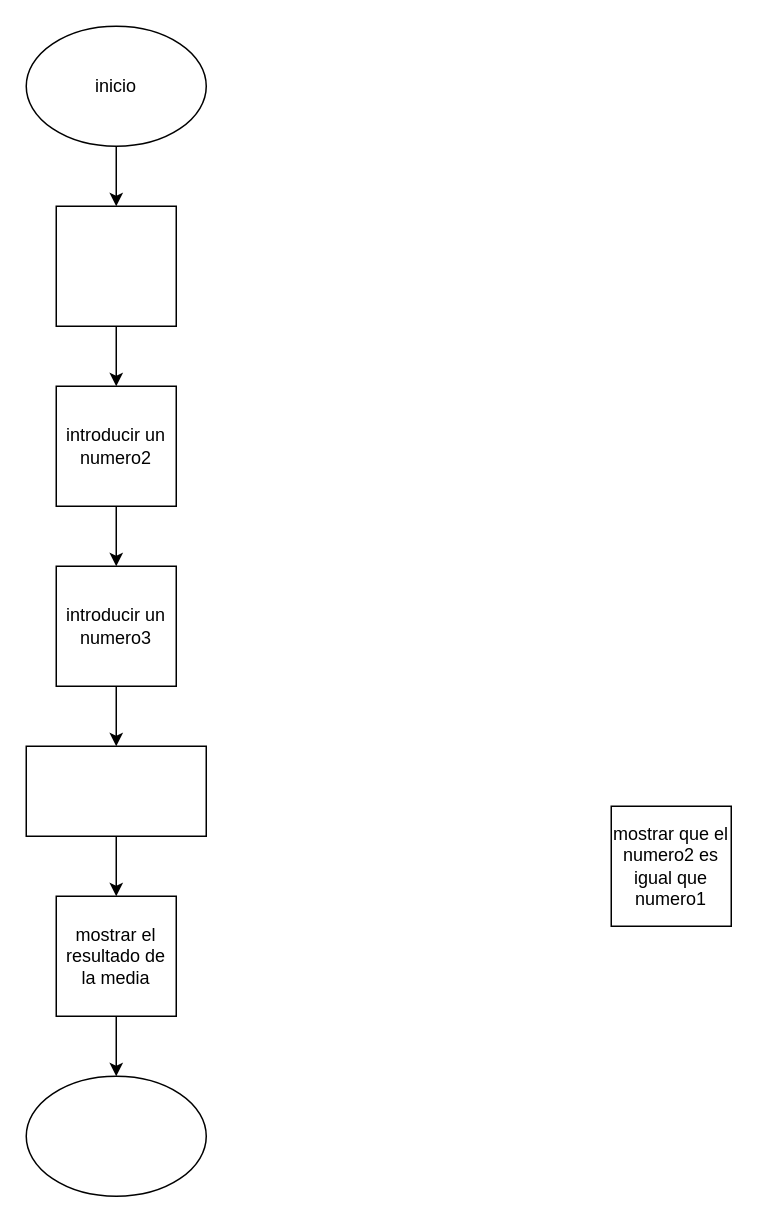
Some shapes in this 758 by 1223 pixel diagram are drawn without their labels. The box of each missing label's shape, as (x1, y1, x2, y2) in pixels:
asignar la suma y division entre 3 de los tres numeros: (25, 745, 206, 836)
final: (25, 1075, 206, 1196)
introducir un numero1: (55, 205, 176, 326)
